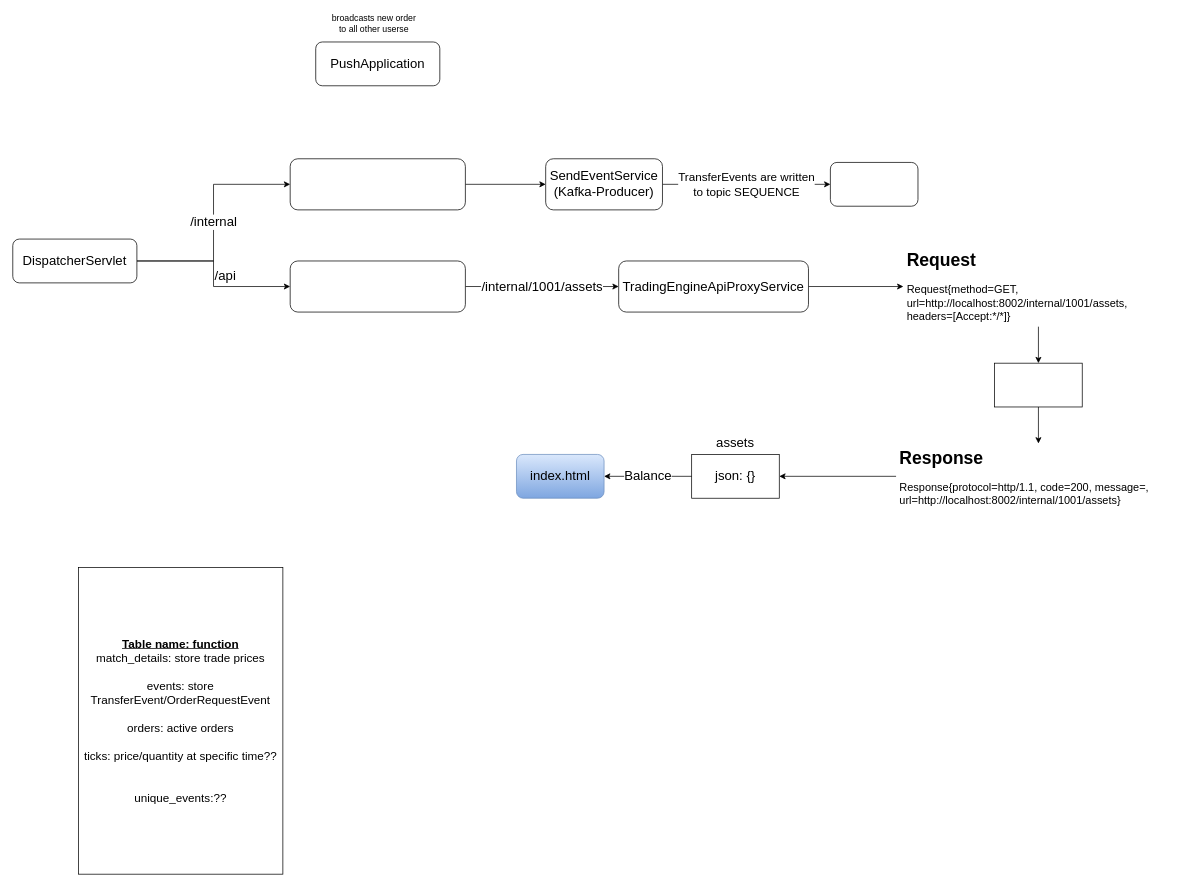
The diagram is 1194 pixels wide and 887 high, and some of its shapes have lost their labels. Each missing label, with the centre of its shape:
Kafka-Topic SEQUENCE: the point at 874,184
OkHttpClient: the point at 1038,384
TradingApiController: the point at 377,286
TradingInternalApiController: the point at 377,184
